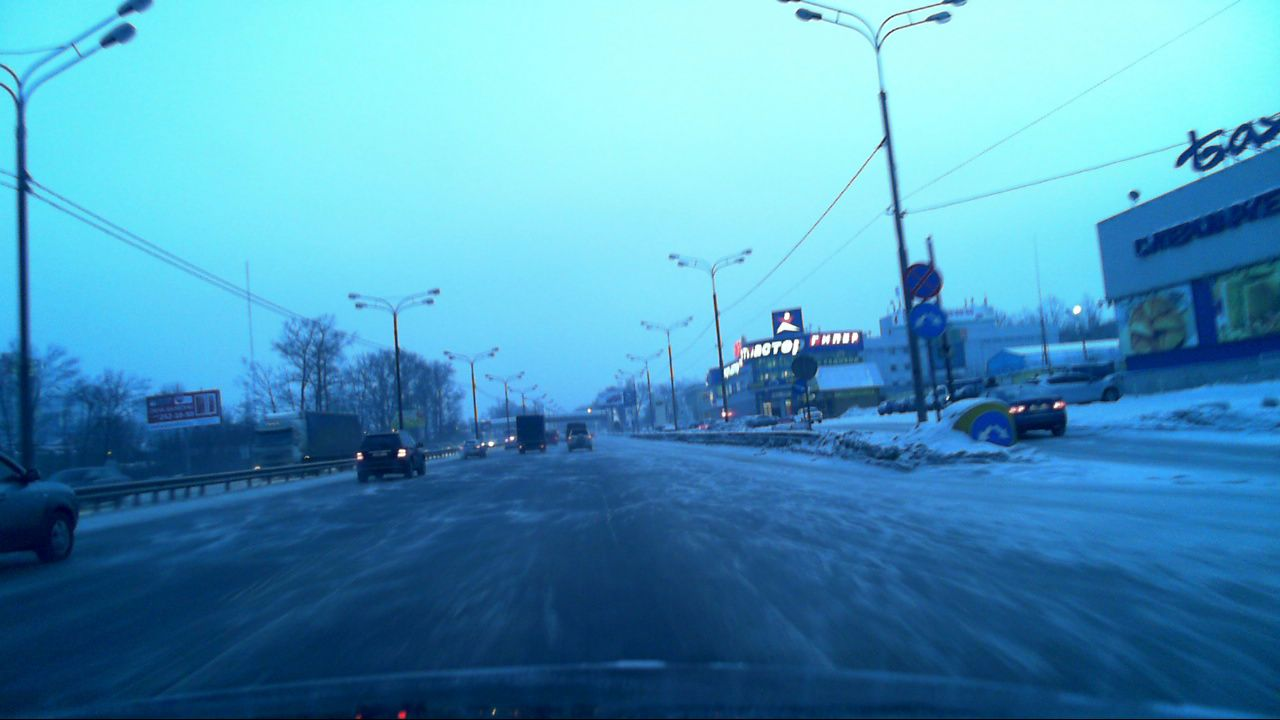No Parking: (904, 263, 943, 300)
